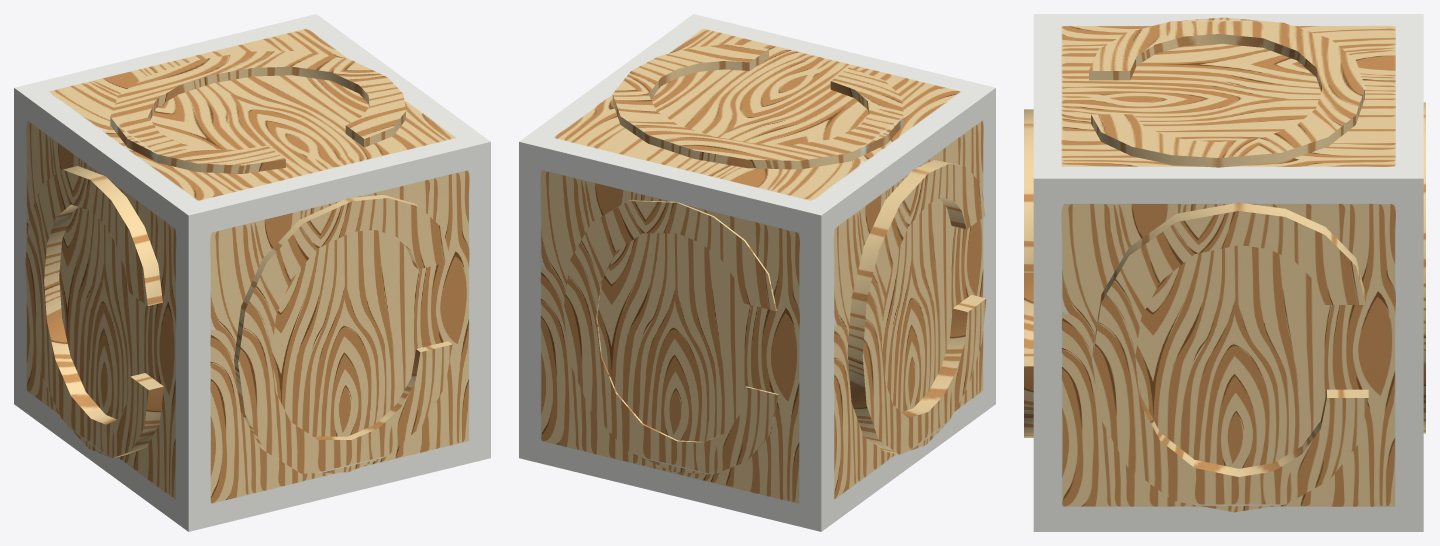
The model's file is Block C.fbx.
The picture shows the model from 3 angles, left to right: view 1: azimuth 30°, elevation 25°; view 2: azimuth 150°, elevation 25°; view 3: azimuth 270°, elevation 25°; orthographic projection. The views are drawn at different scales.
Parts seen in each view (by area): view 1: Box, FRONT, LEFT, TOP; view 2: Box, BACK, LEFT, TOP; view 3: Box, RIGHT, TOP, FRONT, BACK.
Boxes of the visible parts, bbox=[...] form: Box: bbox=[14, 14, 490, 531]; FRONT: bbox=[234, 195, 452, 473]; LEFT: bbox=[25, 166, 163, 458]; TOP: bbox=[110, 51, 405, 173]; Box: bbox=[519, 14, 995, 531]; BACK: bbox=[563, 200, 778, 474]; LEFT: bbox=[847, 160, 986, 454]; TOP: bbox=[612, 44, 903, 169]; Box: bbox=[1033, 14, 1423, 531]; RIGHT: bbox=[1092, 202, 1368, 512]; TOP: bbox=[1089, 17, 1364, 167]; FRONT: bbox=[1024, 109, 1033, 437]; BACK: bbox=[1423, 102, 1425, 433].
Bounding box in the file's own units: 1.1 × 1.04 × 1.03.
Materials: 2 (2 with a texture image).
